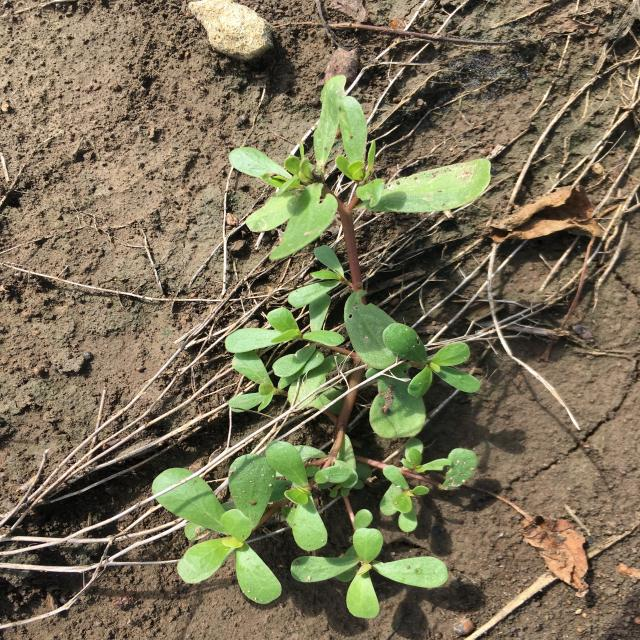Purslane: (151, 75, 492, 619)
